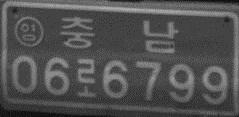0: (10, 54, 38, 95)
6: (43, 56, 71, 96), (101, 59, 128, 99)
7: (134, 59, 162, 102)
9: (167, 63, 195, 104), (200, 64, 228, 105)
로: (75, 57, 98, 98)
영: (13, 14, 44, 48)
충남_D: (59, 14, 179, 54)
